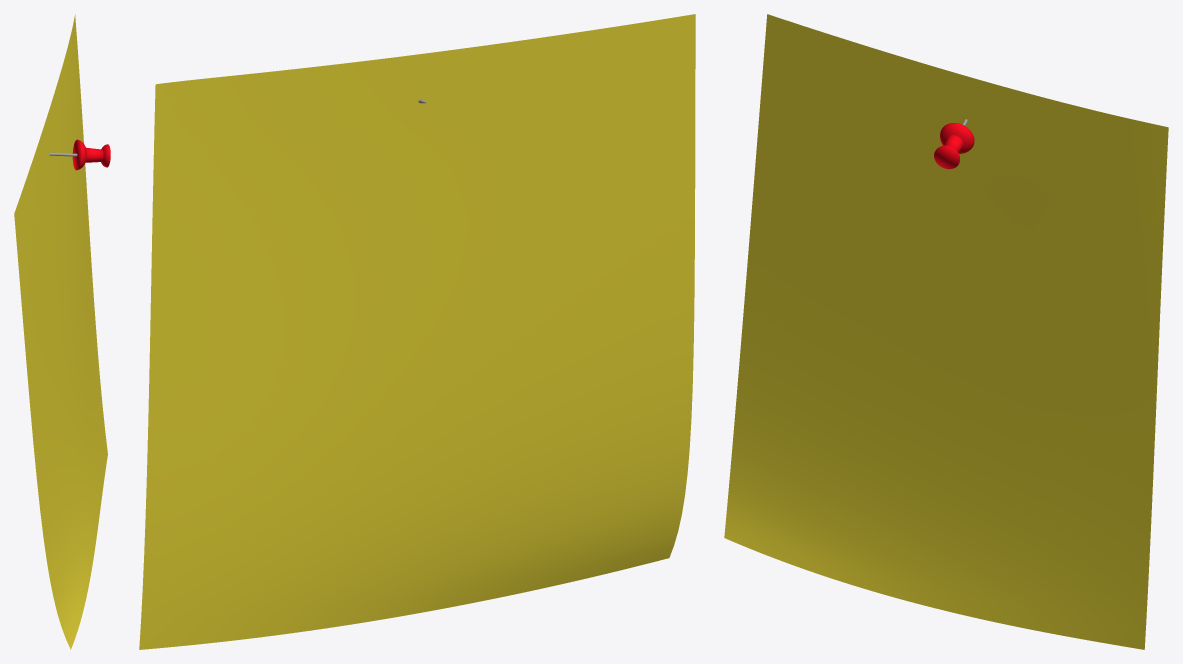
The model's file is positRed.fbx.
3 renders of one model, left to right at view 1: azimuth 30°, elevation 25°; view 2: azimuth 150°, elevation 25°; view 3: azimuth 270°, elevation 25°, orthographic. The views are drawn at different scales.
Parts seen in each view (by area): view 1: Posit, Plastic; view 2: Posit; view 3: Posit, Plastic.
Boxes of the visible parts, x1=… form: Posit: x1=14, y1=14, x2=107, y2=649; Plastic: x1=72, y1=139, x2=110, y2=170; Posit: x1=139, y1=14, x2=695, y2=649; Posit: x1=724, y1=14, x2=1168, y2=649; Plastic: x1=934, y1=123, x2=974, y2=169.
Size of the model in its own units: 68.71 by 117 by 88.78.
